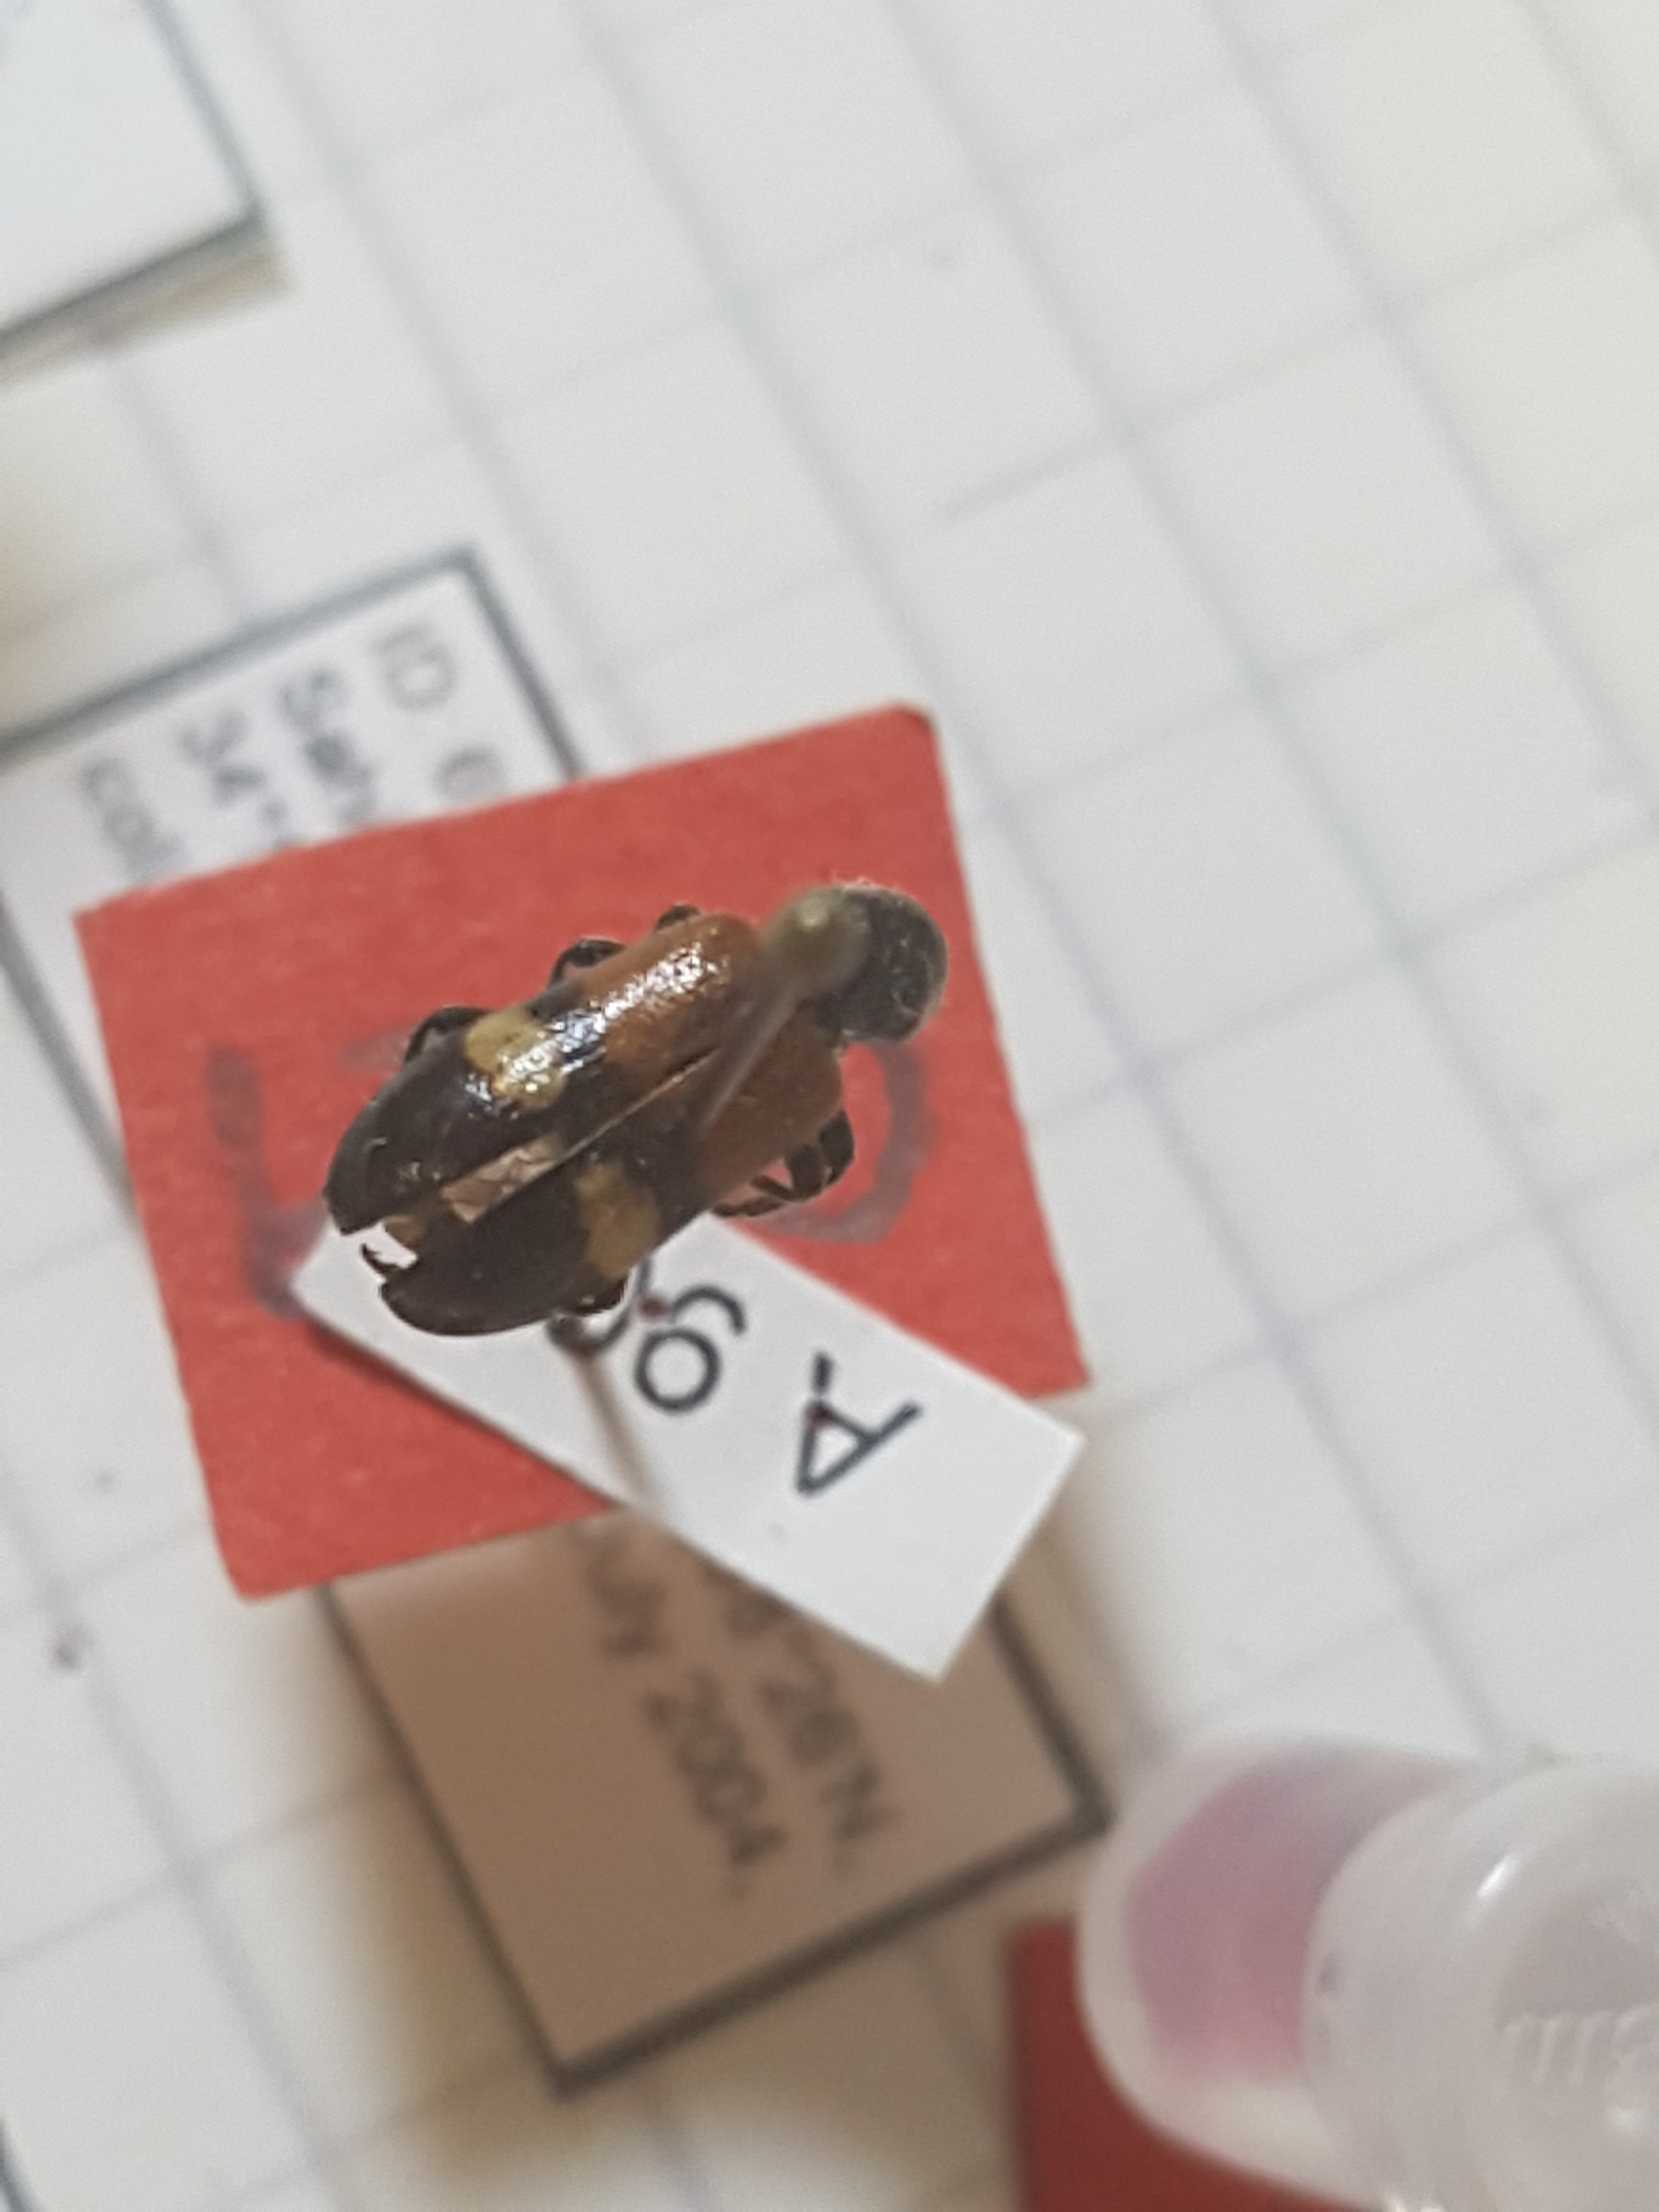opilo_taeniatus: (310, 838, 960, 1357)
